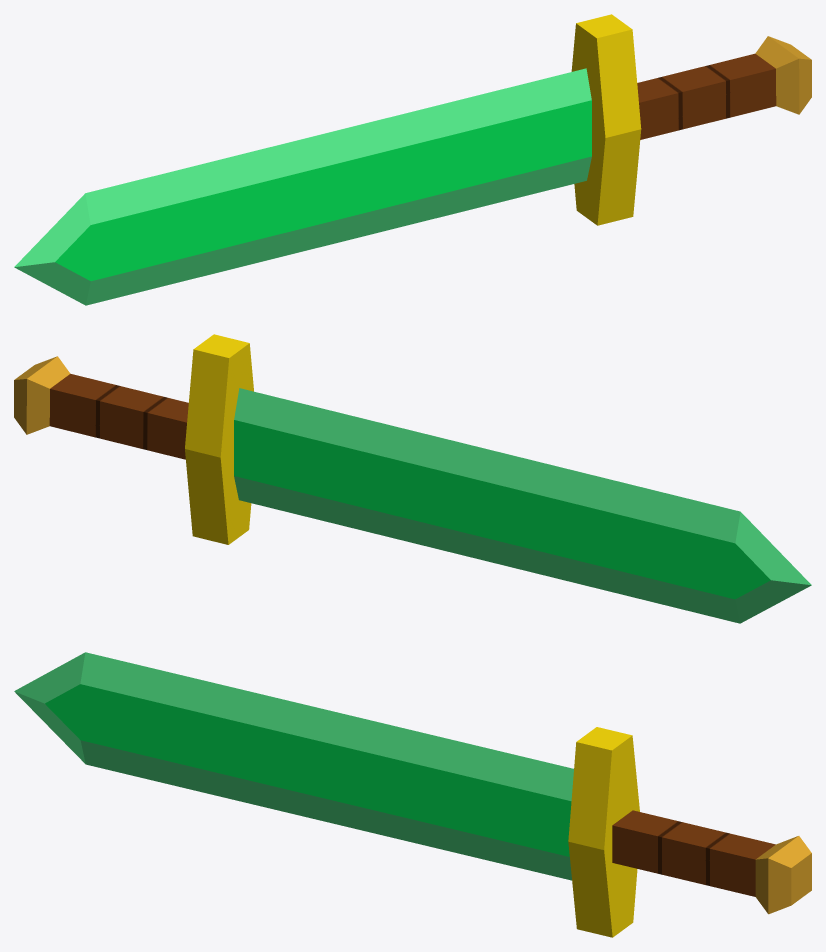
File: WindSword.FBX
3 renders of one model, top to bottom at view 1: azimuth 30°, elevation 25°; view 2: azimuth 150°, elevation 25°; view 3: azimuth 330°, elevation 25°, orthographic.
Parts seen in each view (by area): view 1: Sword; view 2: Sword; view 3: Sword.
Boxes of the visible parts, x1,y1,x2,y2 form: Sword: (14, 14, 811, 305); Sword: (14, 334, 811, 623); Sword: (14, 652, 811, 937).
Bounding box in the file's own units: 132 × 10.81 × 30.02.
1 material, 1 textured.
